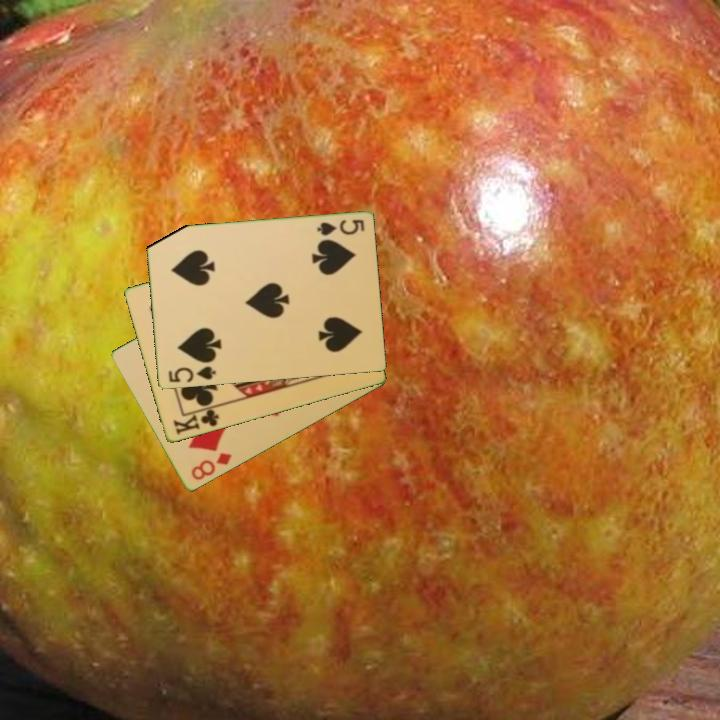5s: (165, 363, 219, 386), (313, 216, 367, 239)
8d: (187, 449, 235, 483)
Kc: (169, 403, 222, 439)
